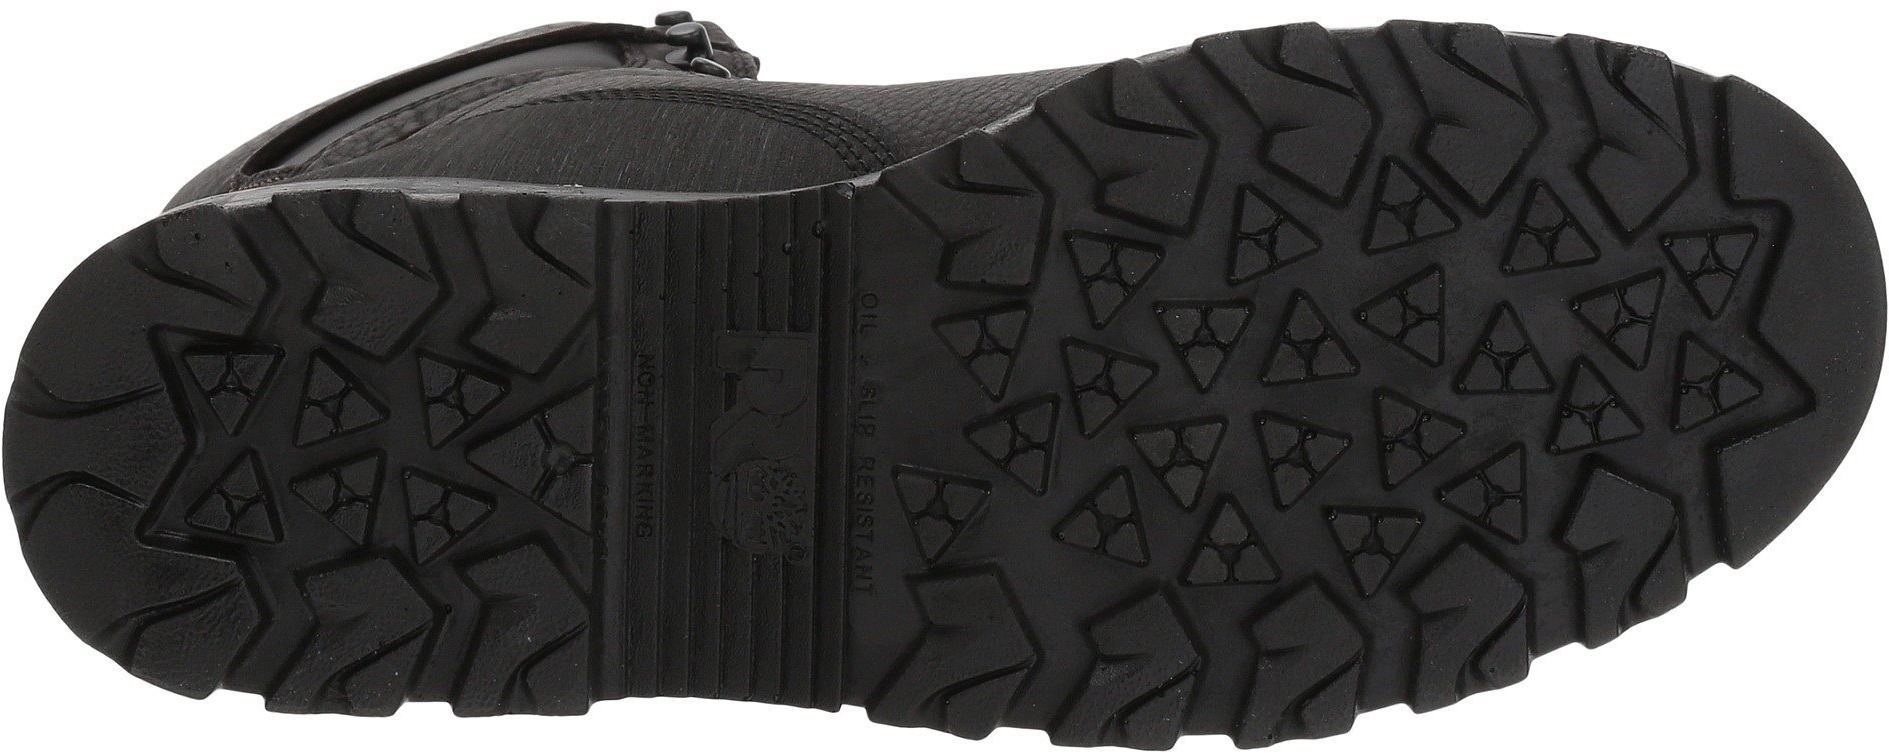chevron: (1370, 25, 1559, 214), (858, 533, 1047, 713), (891, 155, 1057, 316), (1381, 505, 1544, 655)
exclude: (583, 186, 639, 719)
line: (679, 565, 814, 699), (681, 202, 813, 330)
triangle: (1054, 219, 1450, 586), (167, 331, 402, 564), (1540, 220, 1772, 455), (365, 346, 595, 567)
